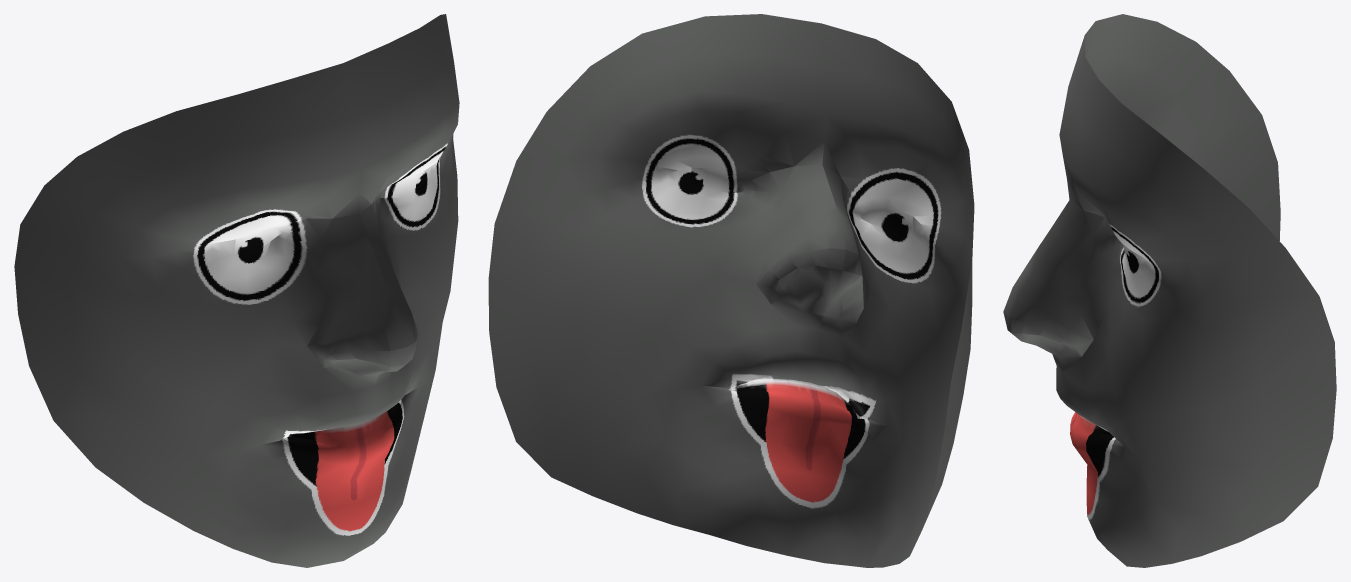
Rendered from mine.fbx.
The picture shows the model from 3 angles, left to right: view 1: azimuth 30°, elevation 25°; view 2: azimuth 150°, elevation 25°; view 3: azimuth 270°, elevation 25°; orthographic projection. The views are drawn at different scales.
Visible parts, largest first — view 1: node_id9; view 2: node_id9; view 3: node_id9.
Boxes of the visible parts, <box> form: node_id9: <box>14,14,459,567</box>; node_id9: <box>488,14,974,567</box>; node_id9: <box>1003,14,1336,567</box>.
Bounding box in the file's own units: 0.4452 × 0.5126 × 0.3151.
Materials: 1 (1 with a texture image).
